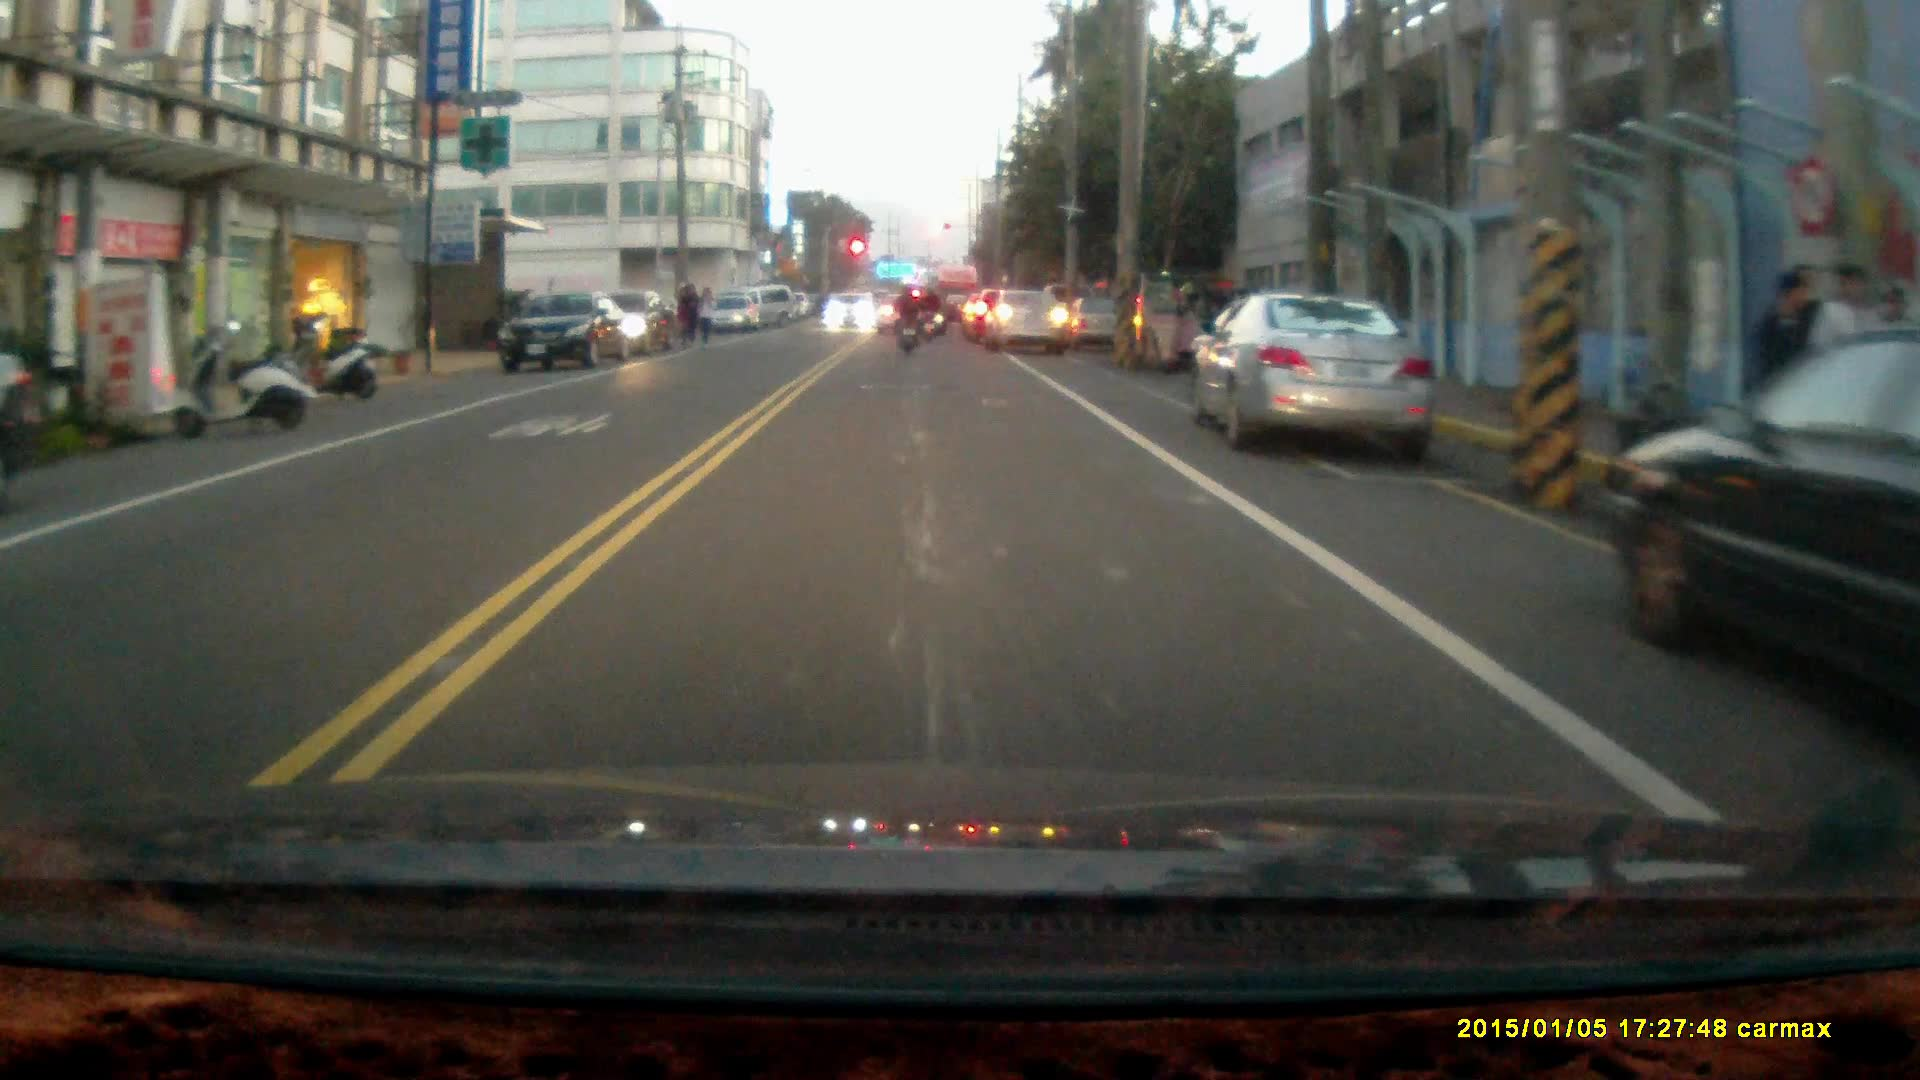pedestrian: (1803, 263, 1884, 465), (1748, 269, 1817, 466), (675, 282, 698, 350), (694, 286, 715, 348)
rider: (890, 282, 922, 358), (914, 284, 943, 345)
vehicle: (1608, 324, 1920, 722), (1191, 295, 1436, 458), (495, 294, 633, 382), (1111, 272, 1217, 372), (982, 288, 1069, 355), (821, 294, 876, 339)
